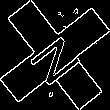N_NE: (23, 24, 87, 86)
